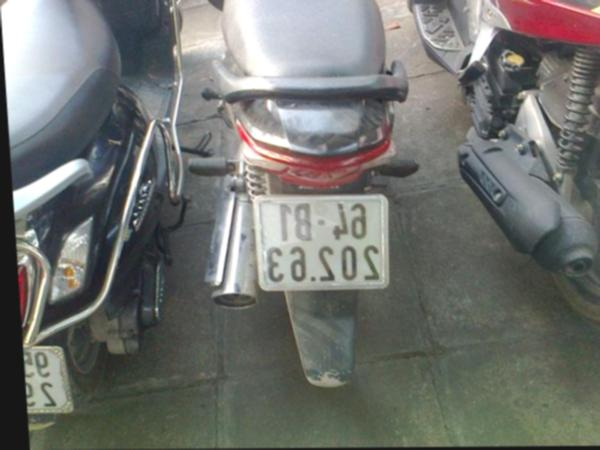License_Plate: (253, 191, 393, 291)
